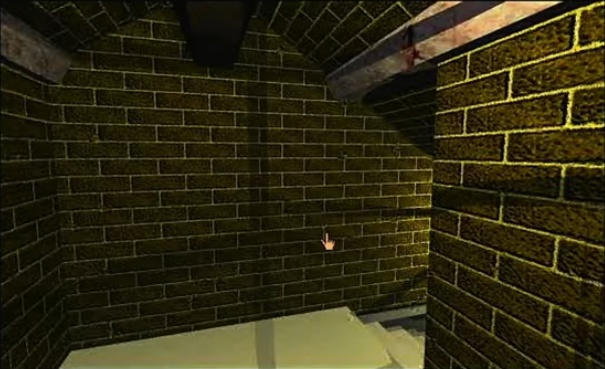Pointer: (318, 230, 339, 252)
